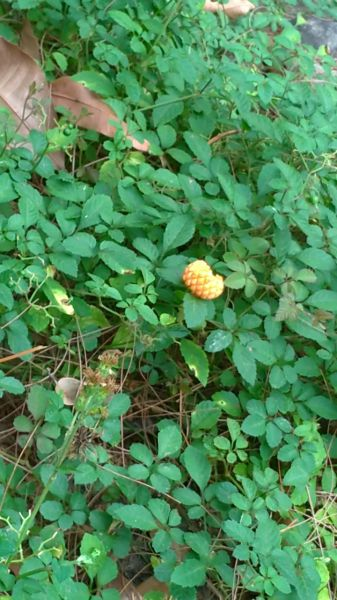eggs: (180, 257, 226, 303)
